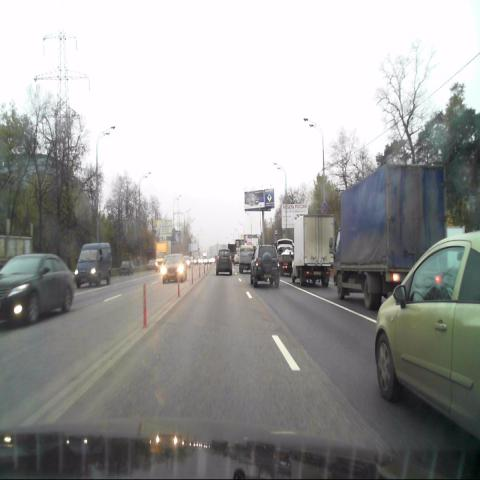3_27: (321, 202, 329, 216)
